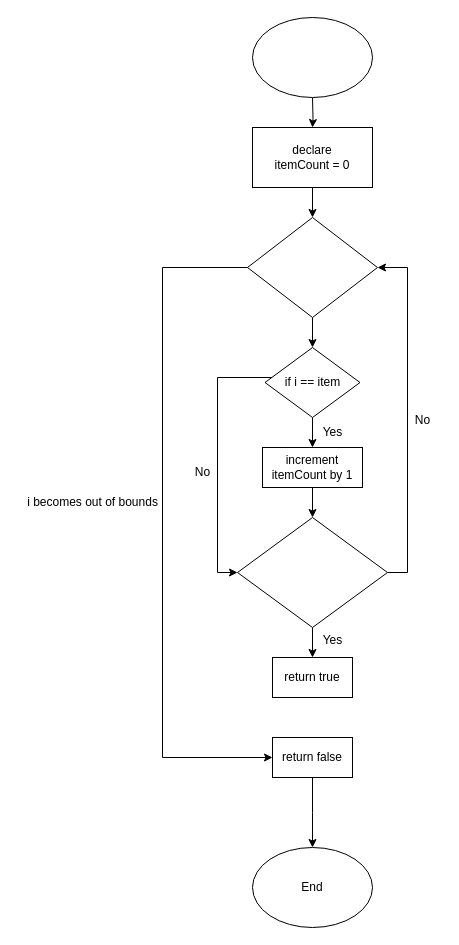
This 459x945 diagram has some shape labels left out. Each missing label, with the centre of its shape:
"for each i in inventory" belongs at point 312,267.
"if itemCount == count" belongs at point 312,572.
"Start" belongs at point 312,57.
